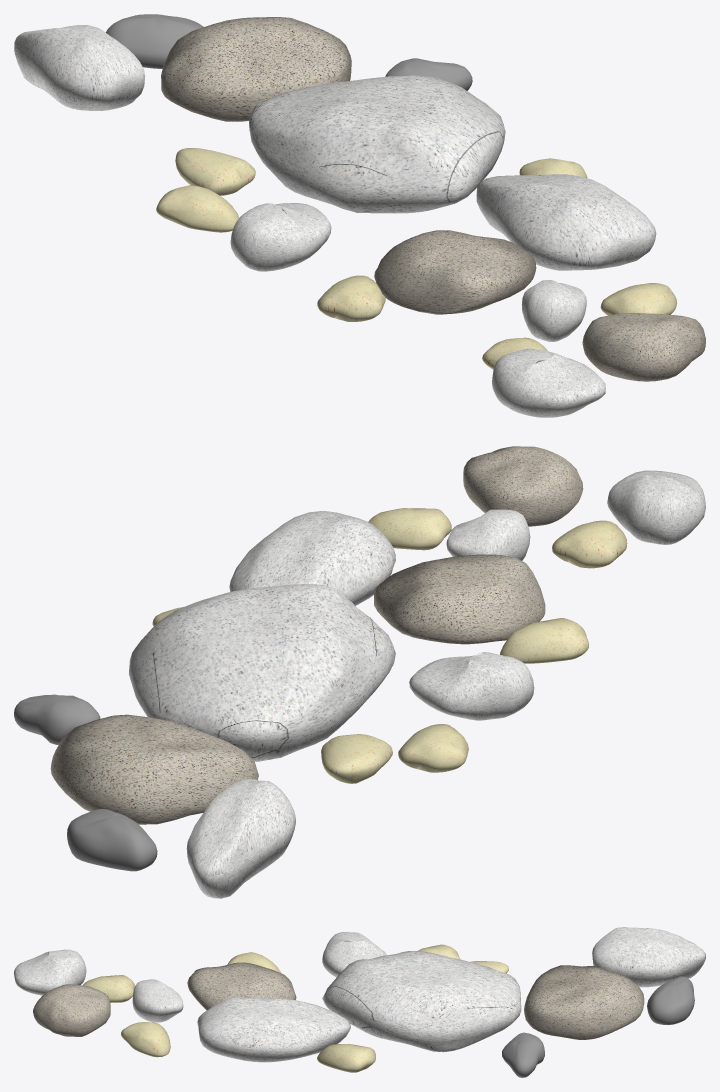
Rendered from stone.obj.
3 views of the same model, one above another, from view 1: azimuth 30°, elevation 25°; view 2: azimuth 150°, elevation 25°; view 3: azimuth 270°, elevation 25° (orthographic). The views are drawn at different scales.
Parts seen in each view (by area): view 1: Sphere06, Sphere02, Sphere01, Sphere03, Sphere18, Sphere20, Sphere22, Sphere13, Sphere26, Sphere16, Sphere07, Sphere08 (+5 smaller); view 2: Sphere06, Sphere02, Sphere03, Sphere01, Sphere18, Sphere20, Sphere13, Sphere22, Sphere16, Sphere26, Sphere10, Sphere11 (+4 smaller); view 3: Sphere06, Sphere01, Sphere02, Sphere18, Sphere03, Sphere20, Sphere22, Sphere16, Sphere26, Sphere13, Sphere11, Sphere14 (+4 smaller).
Boxes of the visible parts, <box> form: Sphere06: <box>249,75,505,213</box>; Sphere02: <box>161,17,351,121</box>; Sphere01: <box>476,174,656,270</box>; Sphere03: <box>374,230,536,314</box>; Sphere18: <box>14,25,145,110</box>; Sphere20: <box>582,313,705,381</box>; Sphere22: <box>492,348,605,417</box>; Sphere13: <box>230,203,331,271</box>; Sphere26: <box>521,280,586,341</box>; Sphere16: <box>106,14,203,68</box>; Sphere07: <box>156,185,238,232</box>; Sphere08: <box>175,148,255,195</box>; Sphere06: <box>129,583,395,761</box>; Sphere02: <box>50,714,258,824</box>; Sphere03: <box>374,554,545,644</box>; Sphere01: <box>229,511,395,605</box>; Sphere18: <box>186,778,295,898</box>; Sphere20: <box>463,446,583,526</box>; Sphere13: <box>409,652,534,720</box>; Sphere22: <box>607,470,705,544</box>; Sphere16: <box>67,809,157,871</box>; Sphere26: <box>446,509,530,560</box>; Sphere10: <box>500,618,588,663</box>; Sphere11: <box>14,694,100,744</box>; Sphere06: <box>322,951,521,1052</box>; Sphere01: <box>197,997,350,1062</box>; Sphere02: <box>524,965,644,1039</box>; Sphere18: <box>592,927,705,987</box>; Sphere03: <box>187,962,296,1010</box>; Sphere20: <box>33,984,110,1036</box>; Sphere22: <box>14,949,86,995</box>; Sphere16: <box>647,976,694,1024</box>; Sphere26: <box>132,979,183,1022</box>; Sphere13: <box>322,932,386,977</box>; Sphere11: <box>502,1032,544,1077</box>; Sphere14: <box>317,1044,375,1072</box>.
Size of the model in its own units: 49.95 by 11.83 by 118.
Materials: 5 (3 with a texture image).
